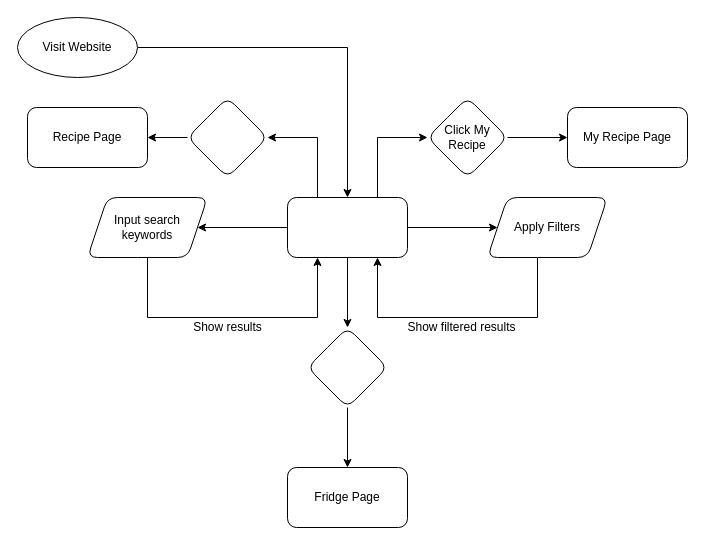
Some shapes in this 705 by 545 pixel diagram are drawn without their labels. Each missing label, with the centre of its shape:
"Click Fridge" belongs at point 347,367.
"Click on Recipes" belongs at point 227,137.
"Main Display Page" belongs at point 347,227.
